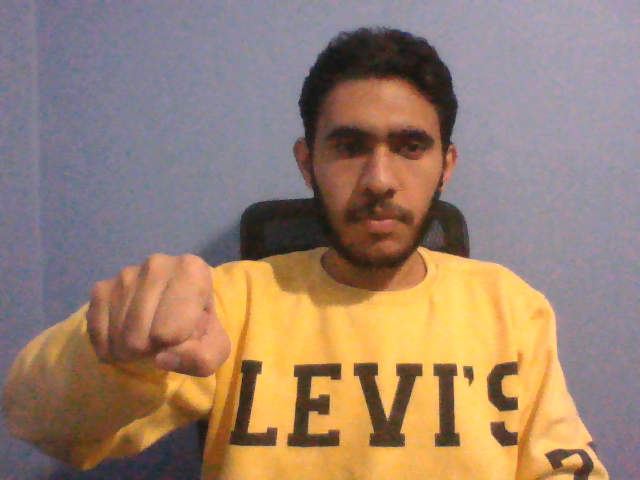yes: (78, 244, 238, 381)
